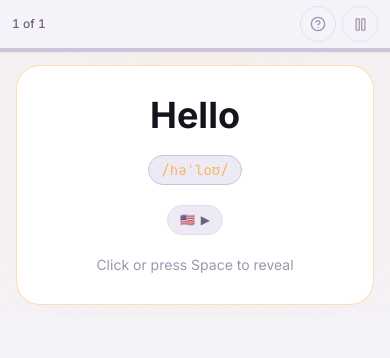
GameContainer › shows pause error when pausing fails
Click the button named "Pause" at point(360, 24), box [342, 6, 378, 42]
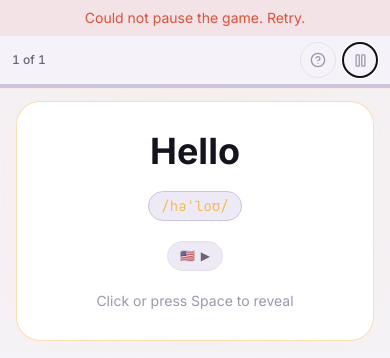
expect the text "Could not pause the game. Retry." is shown: met, box [0, 0, 389, 36]
